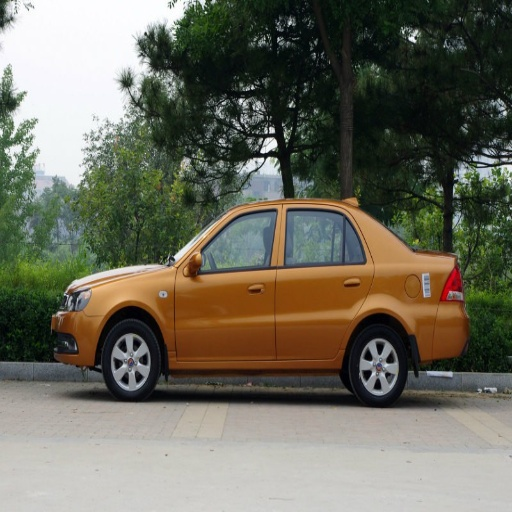back_left_door: (274, 205, 373, 360)
front_left_door: (178, 206, 282, 359)
